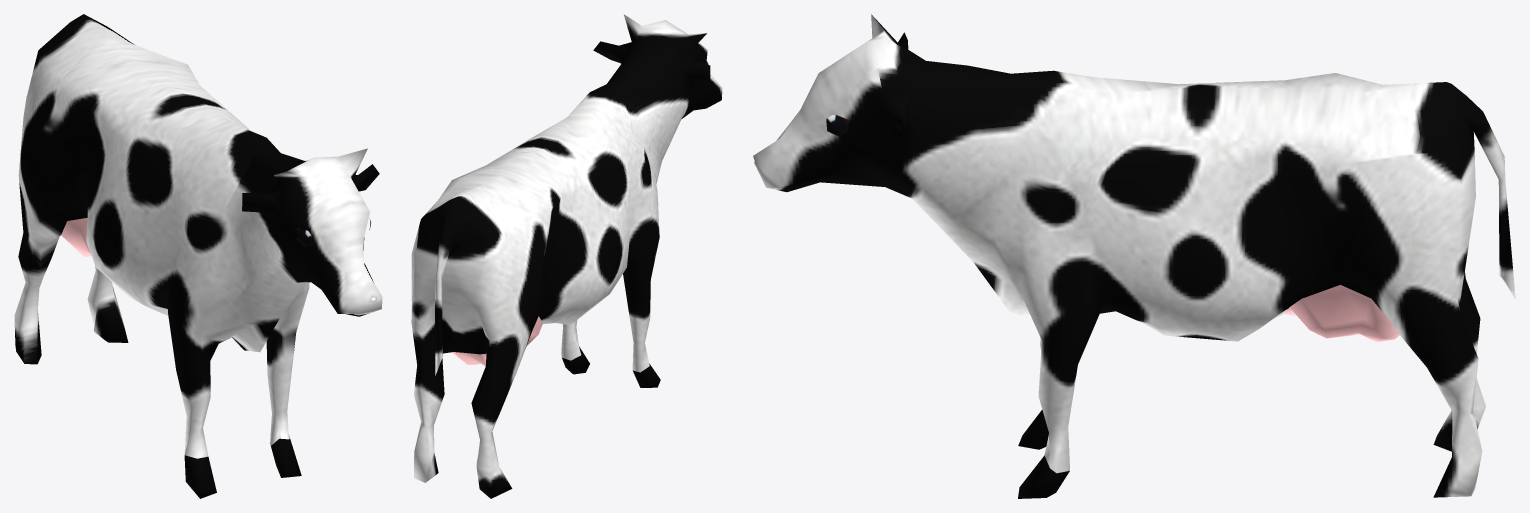
Rendered from Cow01.glb.
3 views of the same model, side by side, from view 1: azimuth 30°, elevation 25°; view 2: azimuth 150°, elevation 25°; view 3: azimuth 270°, elevation 25° (orthographic). The views are drawn at different scales.
Visible parts, largest first — view 1: Cow01; view 2: Cow01; view 3: Cow01.
Part boxes in pixels (<box>): Cow01: <box>14,14,382,498</box>; Cow01: <box>411,14,722,498</box>; Cow01: <box>753,14,1515,498</box>.
Size of what is drawn, in the model's own units: 0.7433 by 1.71 by 2.7.
1 material, 1 textured.
